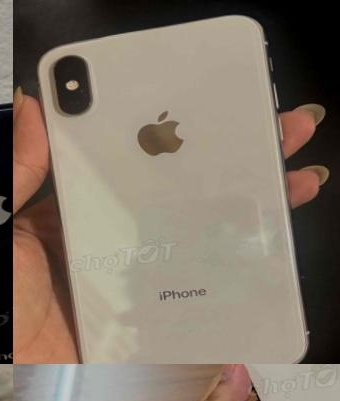scratch: (87, 96, 104, 112), (43, 60, 67, 71), (47, 75, 61, 88)
